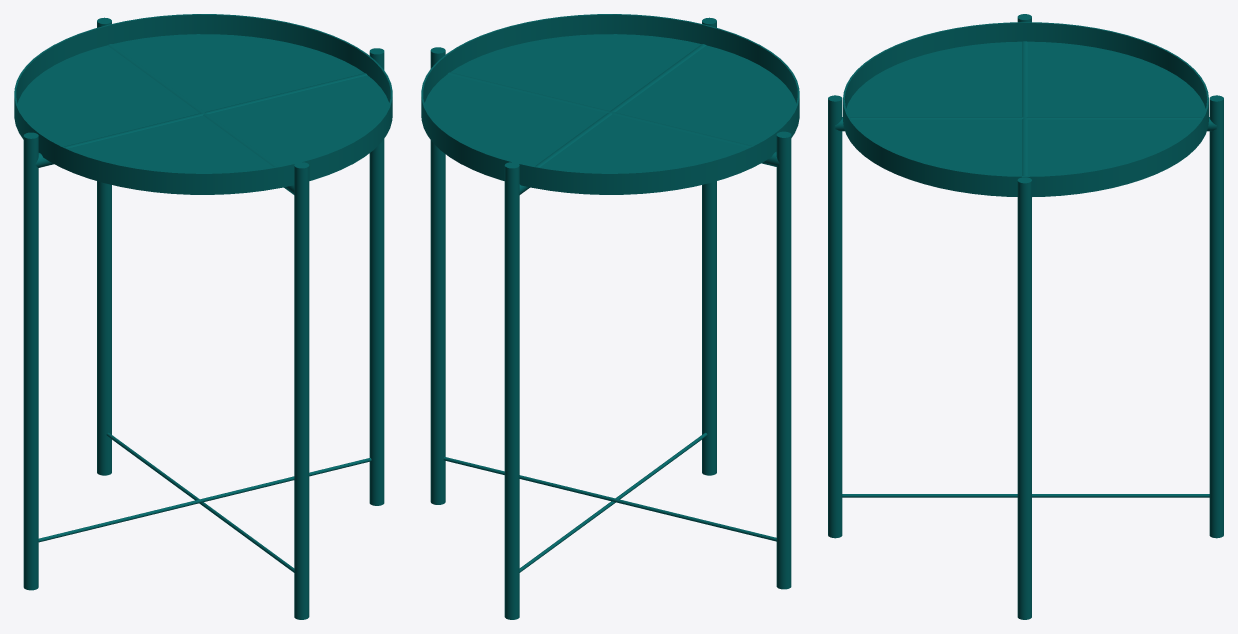
3 views of the same model, side by side, from view 1: azimuth 30°, elevation 25°; view 2: azimuth 150°, elevation 25°; view 3: azimuth 270°, elevation 25° (orthographic). The views are drawn at different scales.
Visible parts, largest first — view 1: tray_table; view 2: tray_table; view 3: tray_table.
Part boxes in pixels (bbox=[...]): tray_table: bbox=[14, 14, 392, 619]; tray_table: bbox=[421, 14, 799, 619]; tray_table: bbox=[828, 14, 1223, 619].
Bounding box in the file's own units: 0.499 × 0.6 × 0.4929.
